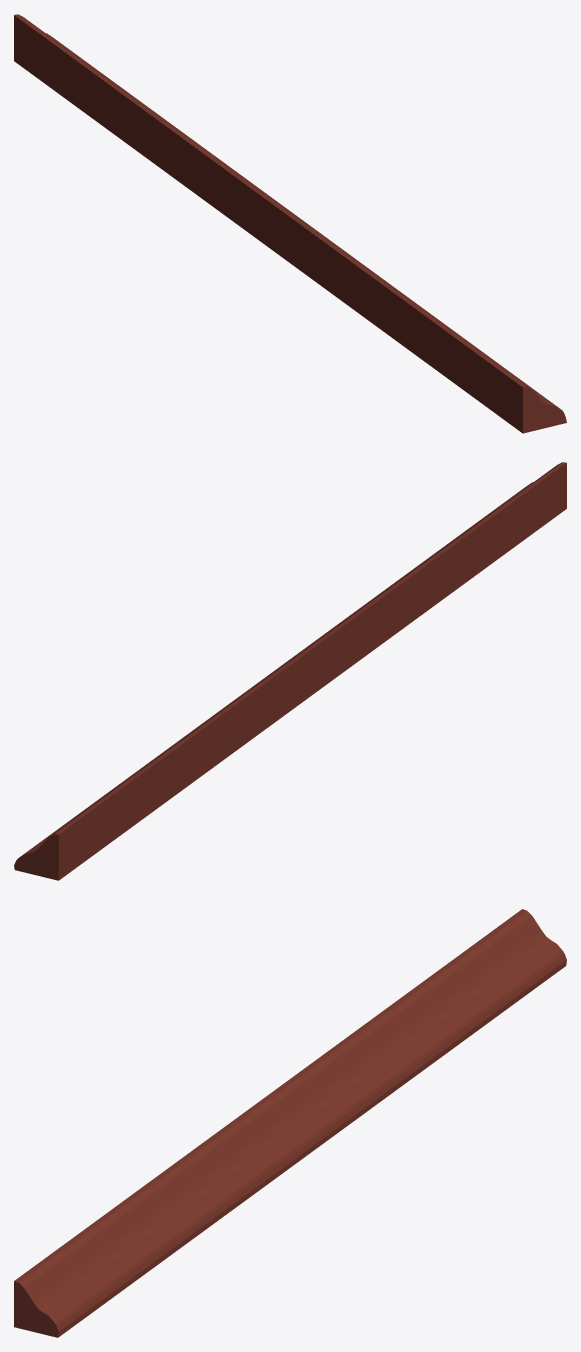
Rendered from plintus.fbx.
3 renders of one model, top to bottom at view 1: azimuth 30°, elevation 25°; view 2: azimuth 150°, elevation 25°; view 3: azimuth 330°, elevation 25°, orthographic.
Parts seen in each view (by area): view 1: Cube; view 2: Cube; view 3: Cube.
Part boxes in pixels (left/top/right/bottom): Cube: left=14, top=14, right=566, bottom=433; Cube: left=14, top=462, right=566, bottom=880; Cube: left=14, top=909, right=566, bottom=1337.
Size of the model in its own units: 50 by 50 by 1002.
